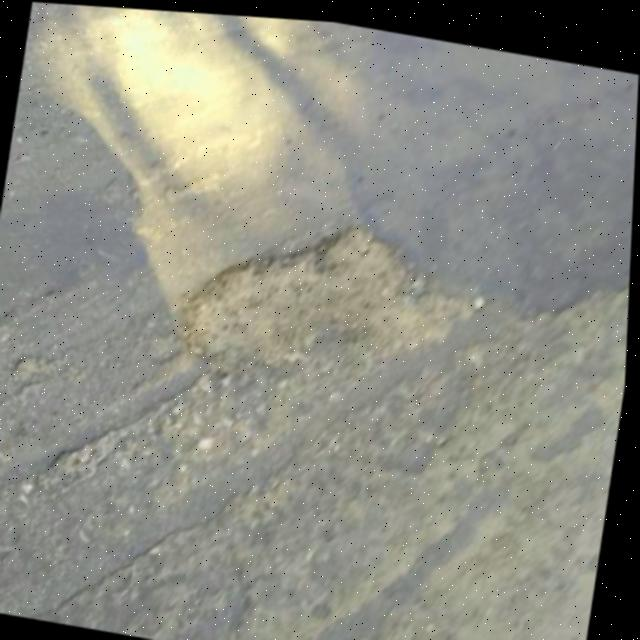Pothole: (180, 190, 495, 408)
